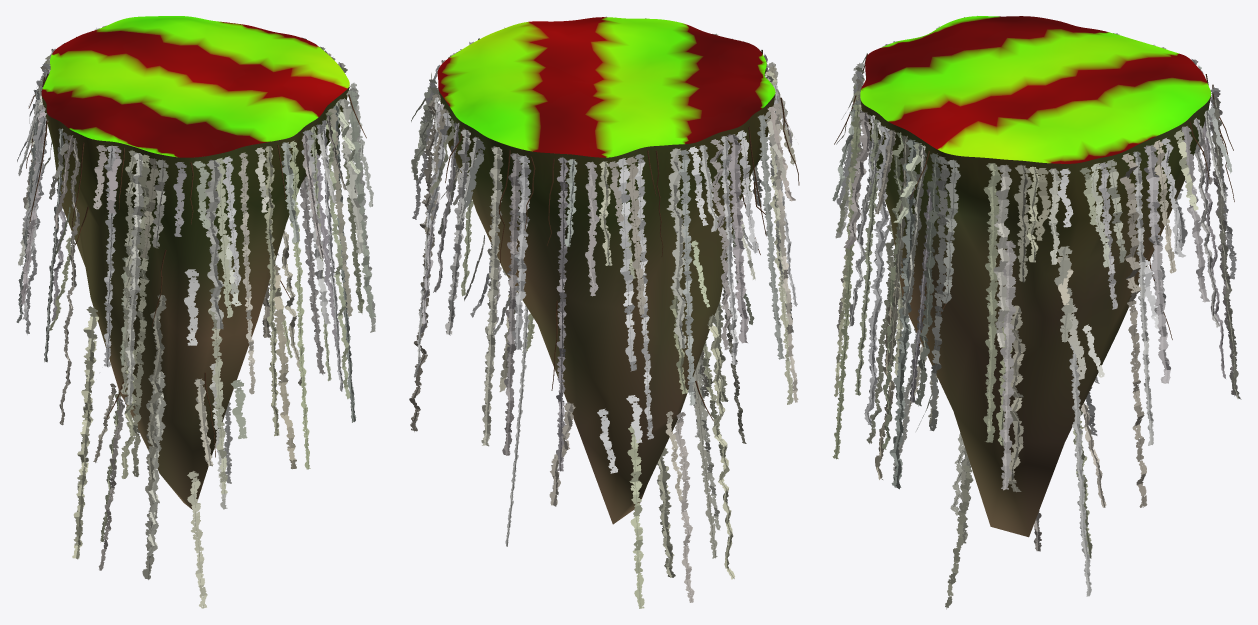
The model's file is SM_H15_Floater01.fbx.
The picture shows the model from 3 angles, left to right: view 1: azimuth 30°, elevation 25°; view 2: azimuth 150°, elevation 25°; view 3: azimuth 270°, elevation 25°; orthographic projection. The views are drawn at different scales.
Parts seen in each view (by area): view 1: SM_H15_Floater01, SM_H15_Floater01_Ivy; view 2: SM_H15_Floater01, SM_H15_Floater01_Ivy; view 3: SM_H15_Floater01, SM_H15_Floater01_Ivy.
Boxes of the visible parts, bbox=[...] form: SM_H15_Floater01: bbox=[41, 16, 349, 509]; SM_H15_Floater01_Ivy: bbox=[16, 25, 375, 608]; SM_H15_Floater01: bbox=[437, 17, 775, 524]; SM_H15_Floater01_Ivy: bbox=[409, 16, 799, 608]; SM_H15_Floater01: bbox=[860, 16, 1211, 537]; SM_H15_Floater01_Ivy: bbox=[832, 17, 1241, 609].
Bounding box in the file's own units: 30.17 × 44.77 × 30.87.
